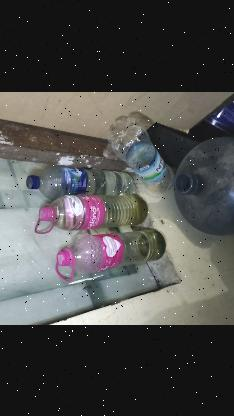Plastic Bottle: (54, 230, 168, 274), (109, 116, 175, 192), (37, 193, 153, 230), (21, 166, 138, 194)
